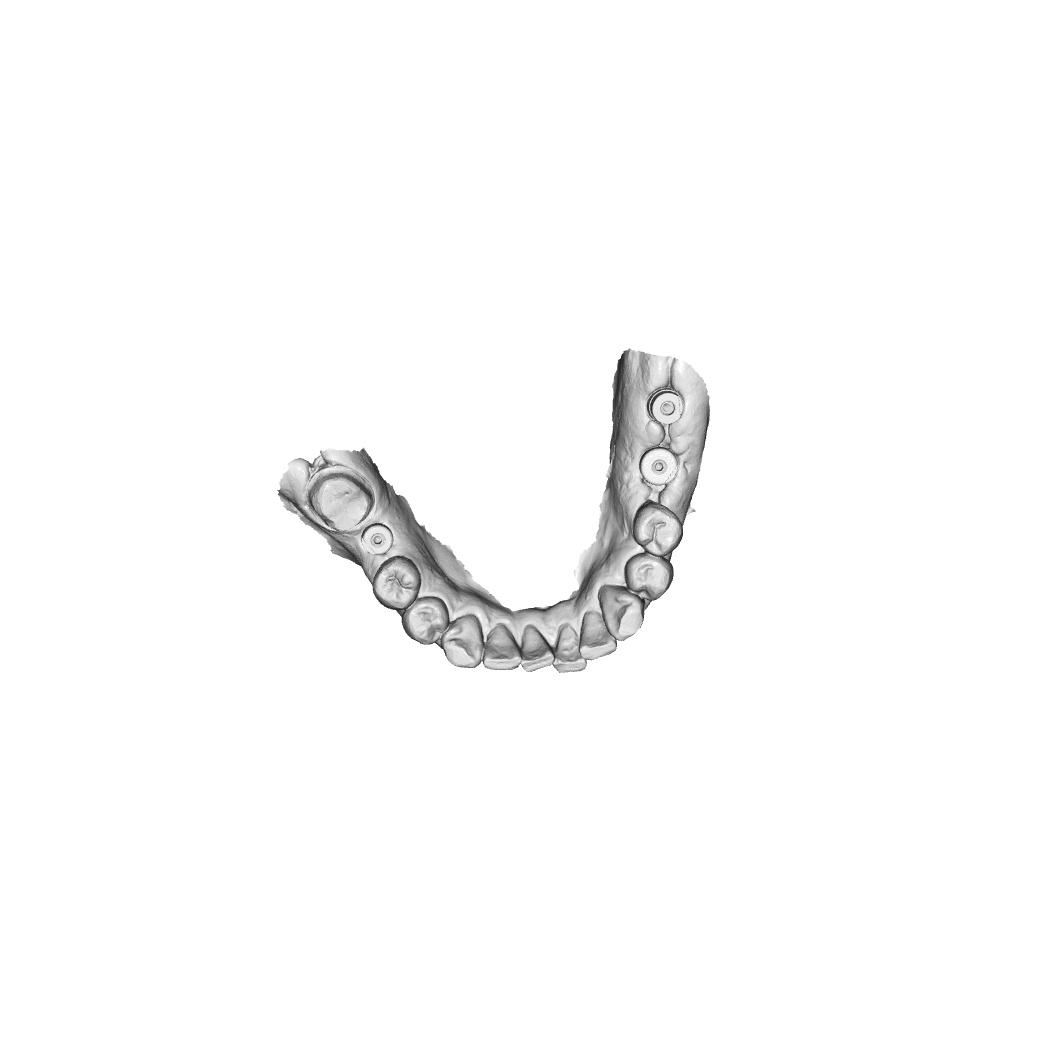canine: (598, 584, 646, 642), (440, 613, 484, 669)
crown: (304, 465, 376, 536)
implant: (638, 446, 679, 486), (646, 385, 686, 425), (360, 522, 395, 556)
incisor: (578, 609, 618, 661), (482, 623, 523, 672), (520, 623, 556, 674), (553, 624, 588, 674)
premolar: (632, 499, 684, 558), (371, 555, 423, 612), (624, 552, 675, 603), (401, 596, 451, 646)
